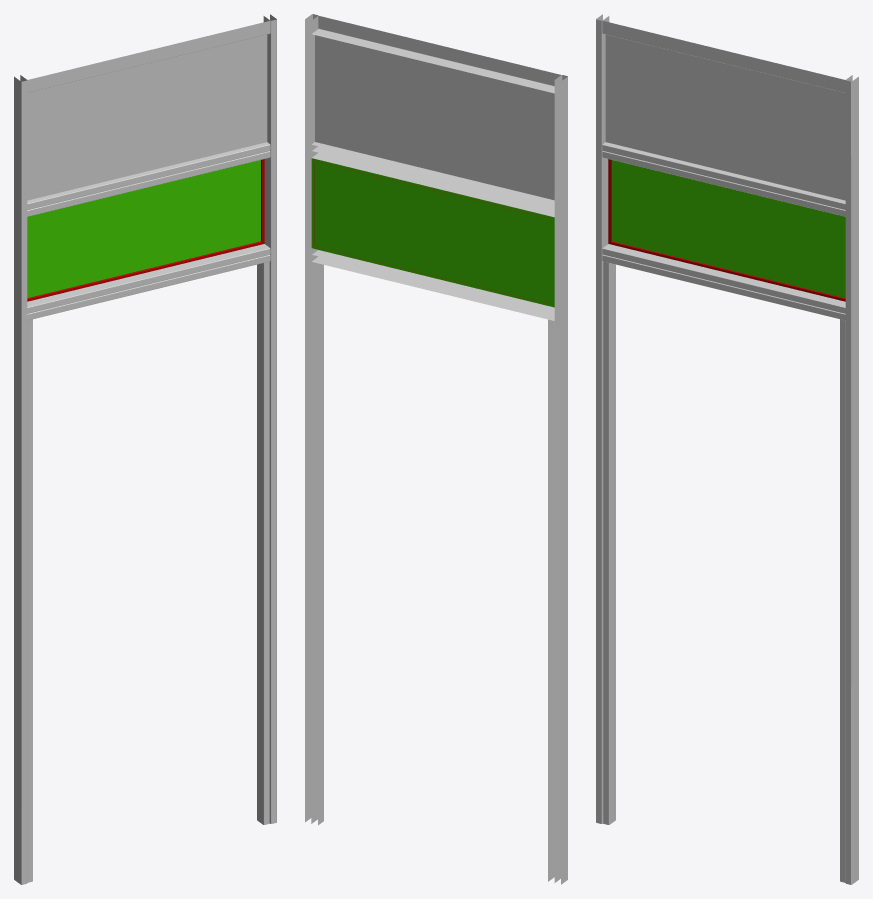
File: Wall04cDoor.fbx
3 views of the same model, side by side, from view 1: azimuth 30°, elevation 25°; view 2: azimuth 150°, elevation 25°; view 3: azimuth 330°, elevation 25° (orthographic).
Parts seen in each view (by area): view 1: Wall04cDoor; view 2: Wall04cDoor; view 3: Wall04cDoor.
Boxes of the visible parts, bbox=[...] form: Wall04cDoor: bbox=[14, 14, 276, 884]; Wall04cDoor: bbox=[305, 14, 567, 884]; Wall04cDoor: bbox=[596, 14, 858, 884].
Bounding box in the file's own units: 100 × 300 × 5.
